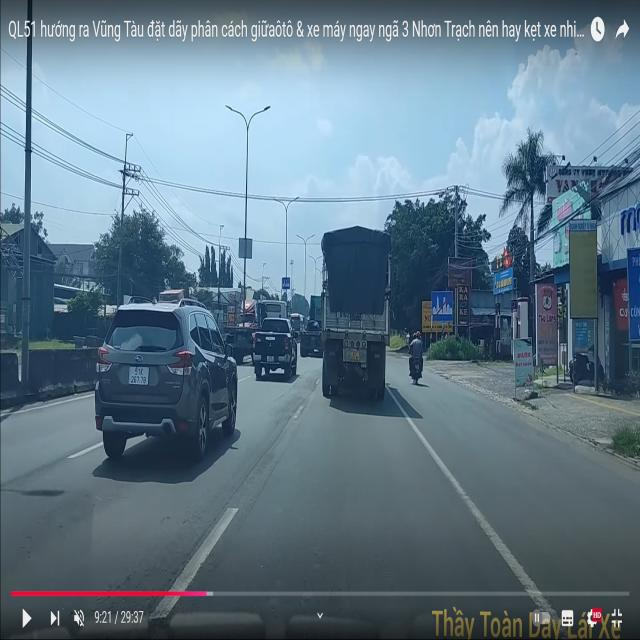Bien hieu lenh het khu dong dan cu: (430, 290, 456, 323)
